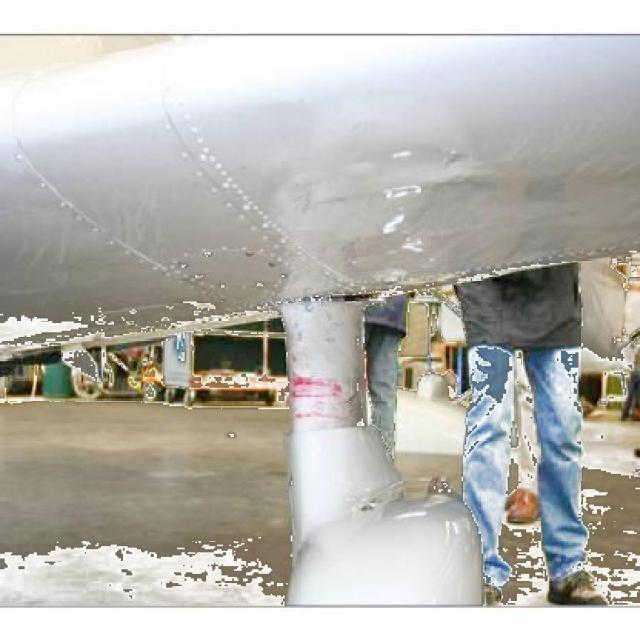dent: (364, 181, 426, 200)
